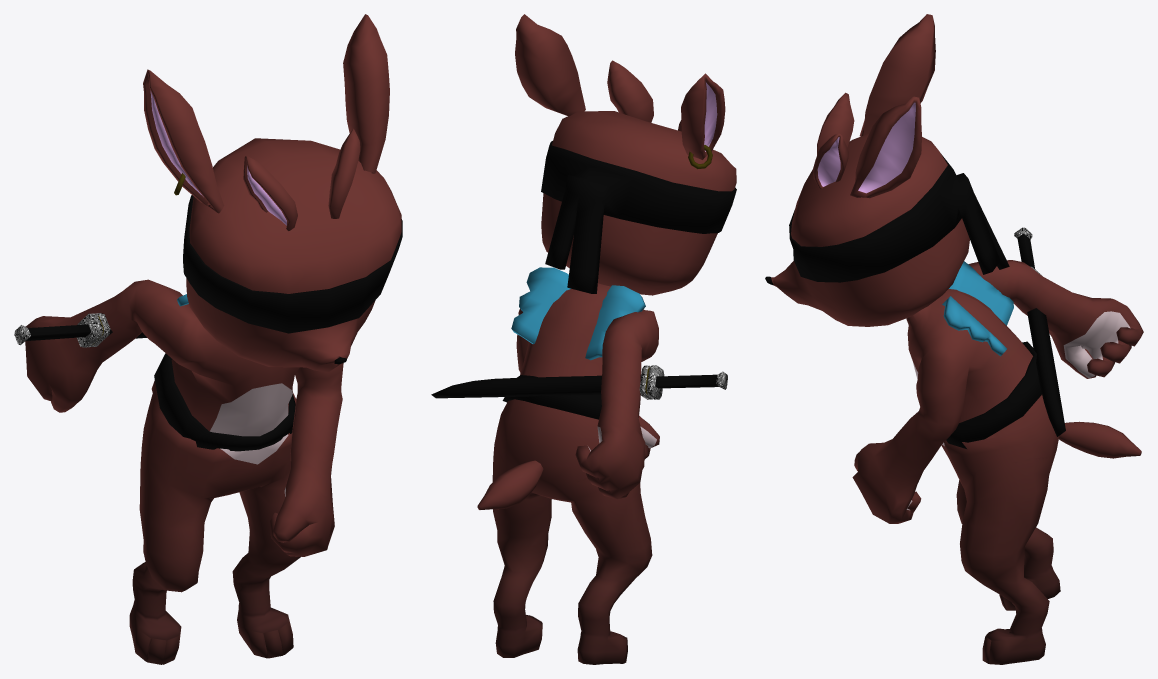
File: Bopo.fbx
The picture shows the model from 3 angles, left to right: view 1: azimuth 30°, elevation 25°; view 2: azimuth 150°, elevation 25°; view 3: azimuth 270°, elevation 25°; orthographic projection. The views are drawn at different scales.
Visible parts, largest first — view 1: Corpo, Espada; view 2: Corpo, Espada; view 3: Corpo.
Part boxes in pixels (box(x1,y1,x2,y2)): Corpo: box(25, 14, 402, 664); Espada: box(14, 313, 110, 347); Corpo: box(431, 14, 736, 664); Espada: box(639, 365, 727, 399); Corpo: box(765, 14, 1143, 664).
Size of the model in its own units: 62.61 by 129 by 75.61.
